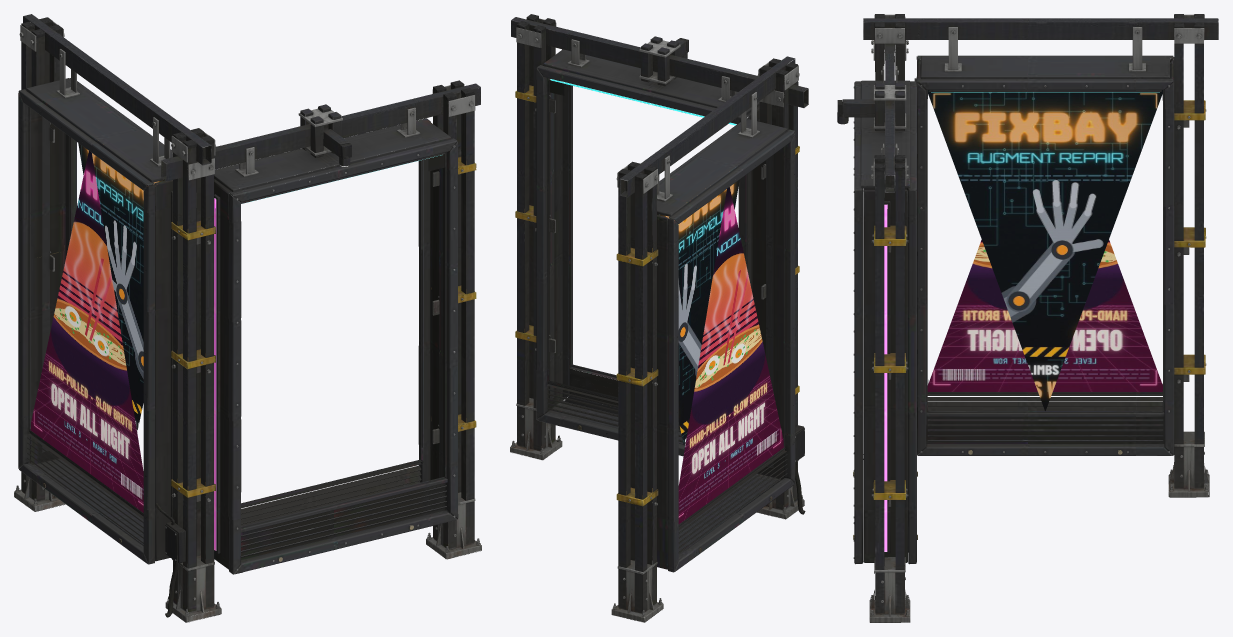
Rendered from preview.glb.
3 views of the same model, side by side, from view 1: azimuth 30°, elevation 25°; view 2: azimuth 150°, elevation 25°; view 3: azimuth 270°, elevation 25° (orthographic). The views are drawn at different scales.
Parts seen in each view (by area): view 1: SM_OCK_StandingSignFrame_A_FrameX, SM_OCK_StandingSignFrame_A_FrameY, SM_OCK_StandingSignFrame_A_Post, SM_OCK_StandingSignFrame_A_Posters, SM_OCK_StandingSignFrame_A_Rail, SM_OCK_StandingSignFrame_A_Base; view 2: SM_OCK_StandingSignFrame_A_FrameY, SM_OCK_StandingSignFrame_A_Post, SM_OCK_StandingSignFrame_A_Posters, SM_OCK_StandingSignFrame_A_FrameX, SM_OCK_StandingSignFrame_A_Rail, SM_OCK_StandingSignFrame_A_Base; view 3: SM_OCK_StandingSignFrame_A_Posters, SM_OCK_StandingSignFrame_A_FrameY, SM_OCK_StandingSignFrame_A_Post, SM_OCK_StandingSignFrame_A_FrameX, SM_OCK_StandingSignFrame_A_Rail, SM_OCK_StandingSignFrame_A_Base.
Part boxes in pixels (x1=…): SM_OCK_StandingSignFrame_A_FrameX: x1=214, y1=118, x2=458, y2=574; SM_OCK_StandingSignFrame_A_FrameY: x1=18, y1=78, x2=172, y2=564; SM_OCK_StandingSignFrame_A_Post: x1=21, y1=17, x2=476, y2=611; SM_OCK_StandingSignFrame_A_Posters: x1=30, y1=143, x2=164, y2=512; SM_OCK_StandingSignFrame_A_Rail: x1=19, y1=14, x2=480, y2=501; SM_OCK_StandingSignFrame_A_Base: x1=14, y1=475, x2=481, y2=622; SM_OCK_StandingSignFrame_A_FrameY: x1=652, y1=119, x2=795, y2=572; SM_OCK_StandingSignFrame_A_Post: x1=515, y1=14, x2=799, y2=612; SM_OCK_StandingSignFrame_A_Posters: x1=657, y1=180, x2=784, y2=523; SM_OCK_StandingSignFrame_A_FrameX: x1=536, y1=49, x2=759, y2=456; SM_OCK_StandingSignFrame_A_Rail: x1=511, y1=17, x2=808, y2=505; SM_OCK_StandingSignFrame_A_Base: x1=510, y1=398, x2=805, y2=622; SM_OCK_StandingSignFrame_A_Posters: x1=927, y1=90, x2=1162, y2=410; SM_OCK_StandingSignFrame_A_FrameY: x1=914, y1=55, x2=1174, y2=455; SM_OCK_StandingSignFrame_A_Post: x1=872, y1=14, x2=1206, y2=613; SM_OCK_StandingSignFrame_A_FrameX: x1=853, y1=80, x2=917, y2=564; SM_OCK_StandingSignFrame_A_Rail: x1=837, y1=14, x2=1218, y2=506; SM_OCK_StandingSignFrame_A_Base: x1=869, y1=431, x2=1209, y2=622.
Size of the model in its own units: 1.68 by 2.4 by 1.77.
7 materials, 7 textured.
